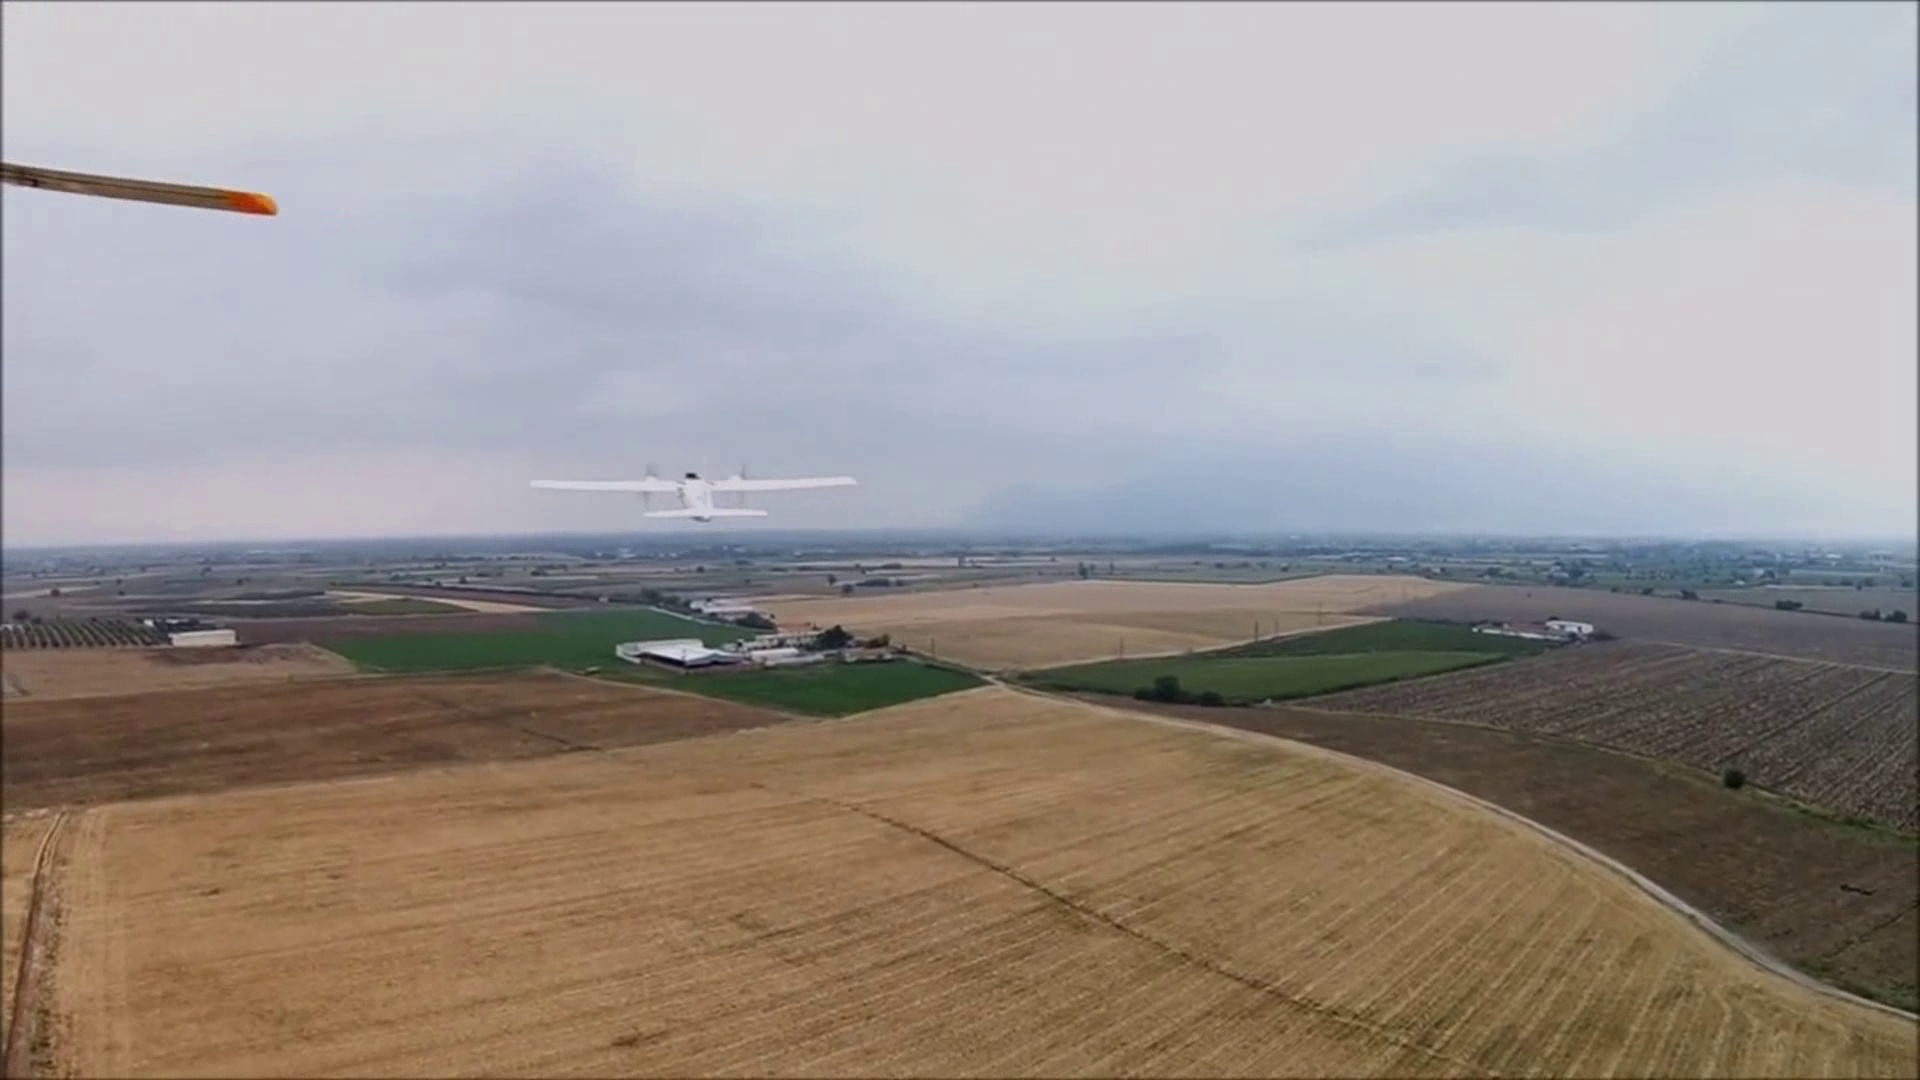airplane: (531, 461, 862, 519)
